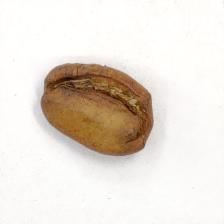NG: (45, 68, 145, 153)
